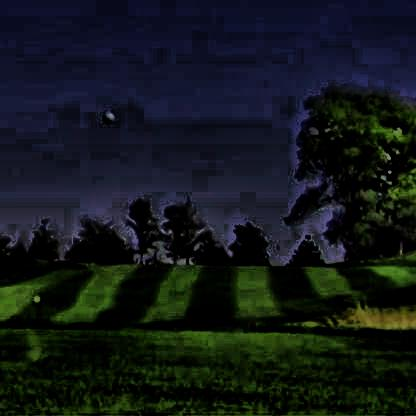golfball: (98, 108, 112, 121)
